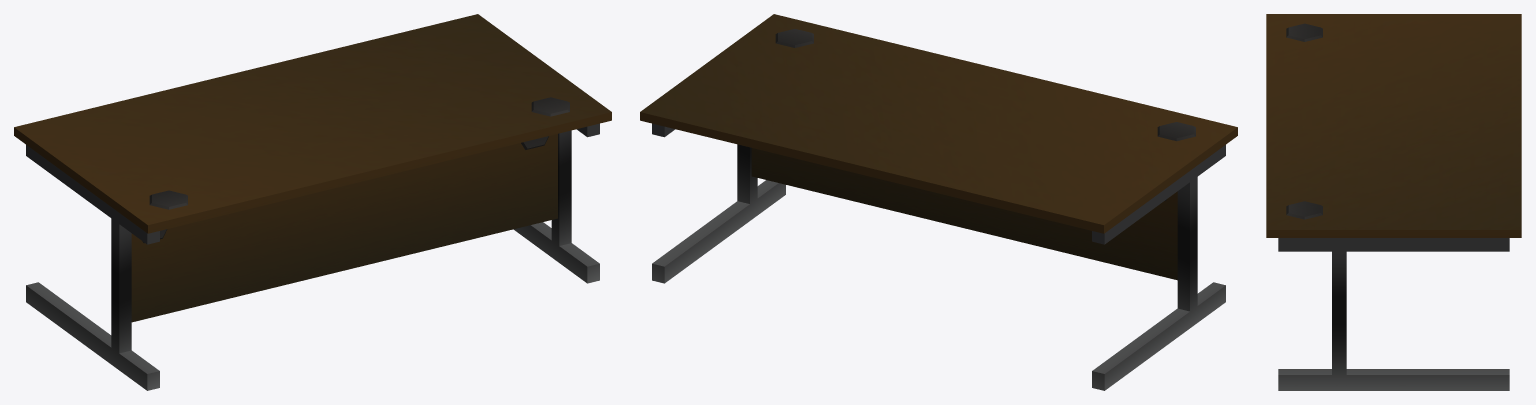
File: Table_OfficeDesk.fbx
The picture shows the model from 3 angles, left to right: view 1: azimuth 30°, elevation 25°; view 2: azimuth 150°, elevation 25°; view 3: azimuth 270°, elevation 25°; orthographic projection. The views are drawn at different scales.
Parts seen in each view (by area): view 1: Table_OfficeDesk; view 2: Table_OfficeDesk; view 3: Table_OfficeDesk.
Part boxes in pixels (bbox=[...]): Table_OfficeDesk: bbox=[14, 14, 611, 390]; Table_OfficeDesk: bbox=[640, 14, 1237, 390]; Table_OfficeDesk: bbox=[1266, 14, 1521, 390].
Bounding box in the file's own units: 207 × 74.14 × 104.
